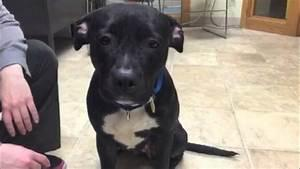dog: (69, 2, 240, 168)
